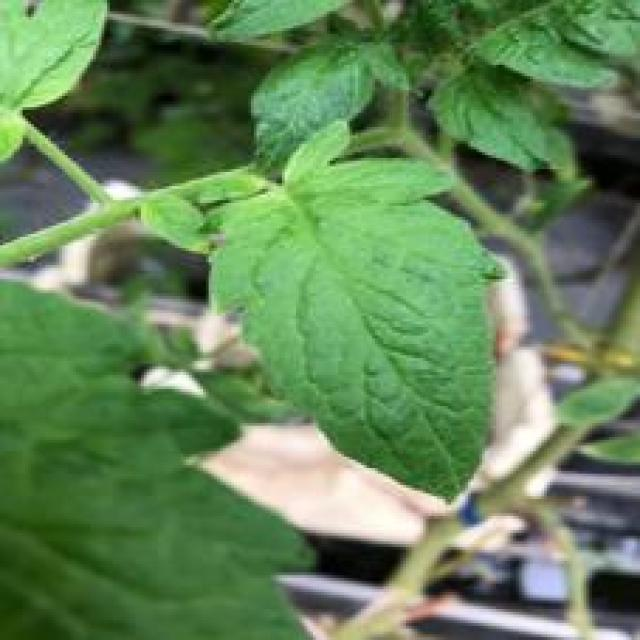Tomato healthy leaf: (141, 155, 505, 505), (0, 277, 318, 640)
